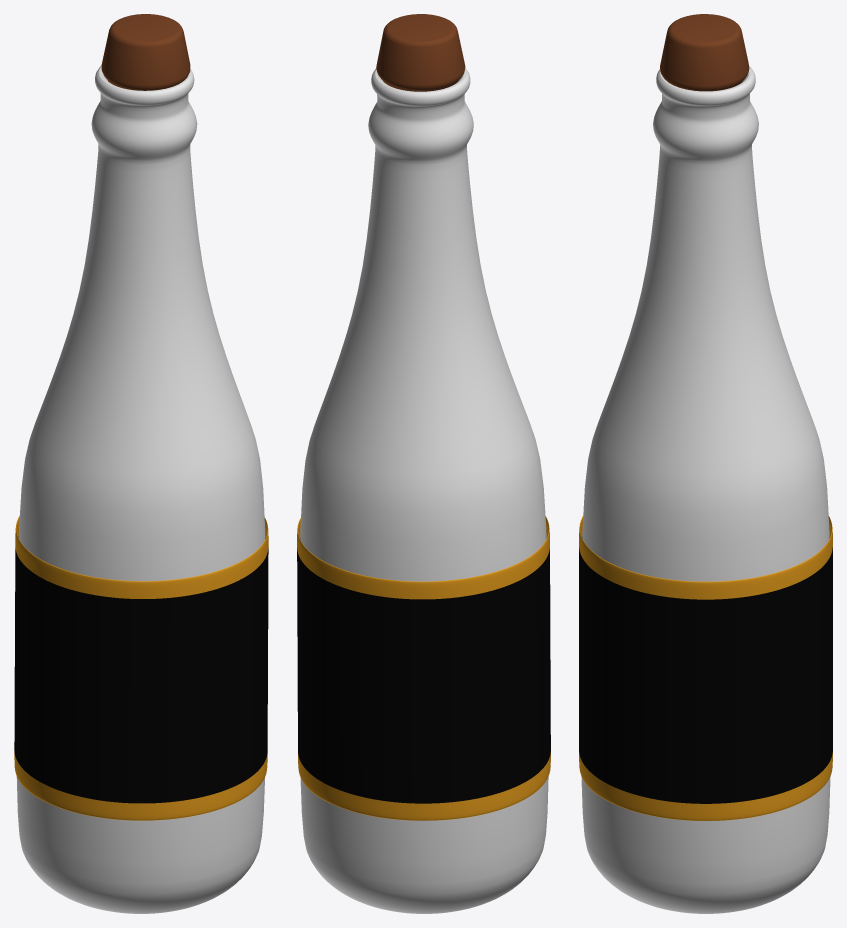
The model's file is Champagne.fbx.
The picture shows the model from 3 angles, left to right: view 1: azimuth 30°, elevation 25°; view 2: azimuth 150°, elevation 25°; view 3: azimuth 270°, elevation 25°; orthographic projection.
Parts seen in each view (by area): view 1: ChamphagneBottle_LOD0, ChamphagneTag_LOD0, ChamphagneCap_LOD0; view 2: ChamphagneBottle_LOD0, ChamphagneTag_LOD0, ChamphagneCap_LOD0; view 3: ChamphagneBottle_LOD0, ChamphagneTag_LOD0, ChamphagneCap_LOD0.
Part boxes in pixels (x1,y1,x2,y2): ChamphagneBottle_LOD0: (16,65,265,913); ChamphagneTag_LOD0: (14,516,268,820); ChamphagneCap_LOD0: (101,14,190,90); ChamphagneBottle_LOD0: (300,68,548,913); ChamphagneTag_LOD0: (297,516,550,820); ChamphagneCap_LOD0: (376,14,465,91); ChamphagneBottle_LOD0: (581,66,830,913); ChamphagneTag_LOD0: (579,516,832,820); ChamphagneCap_LOD0: (660,14,749,91).
Size of what is drawn, in the model's own units: 37.29 by 139 by 37.13.
